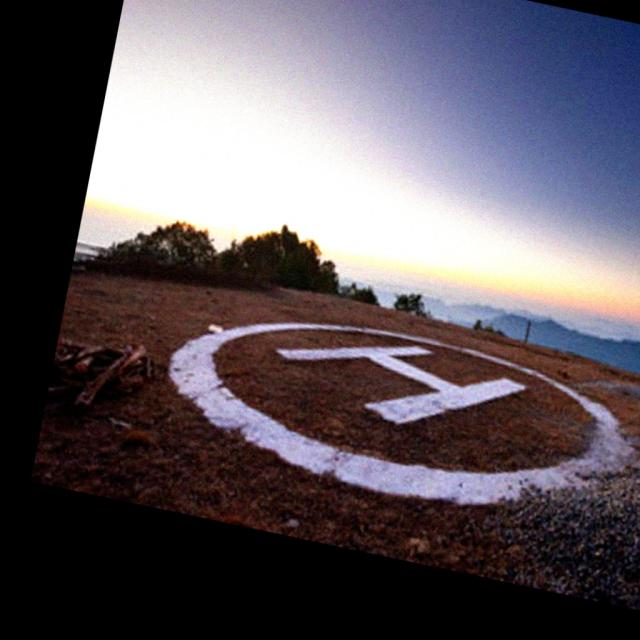helipad: (165, 314, 632, 509)
